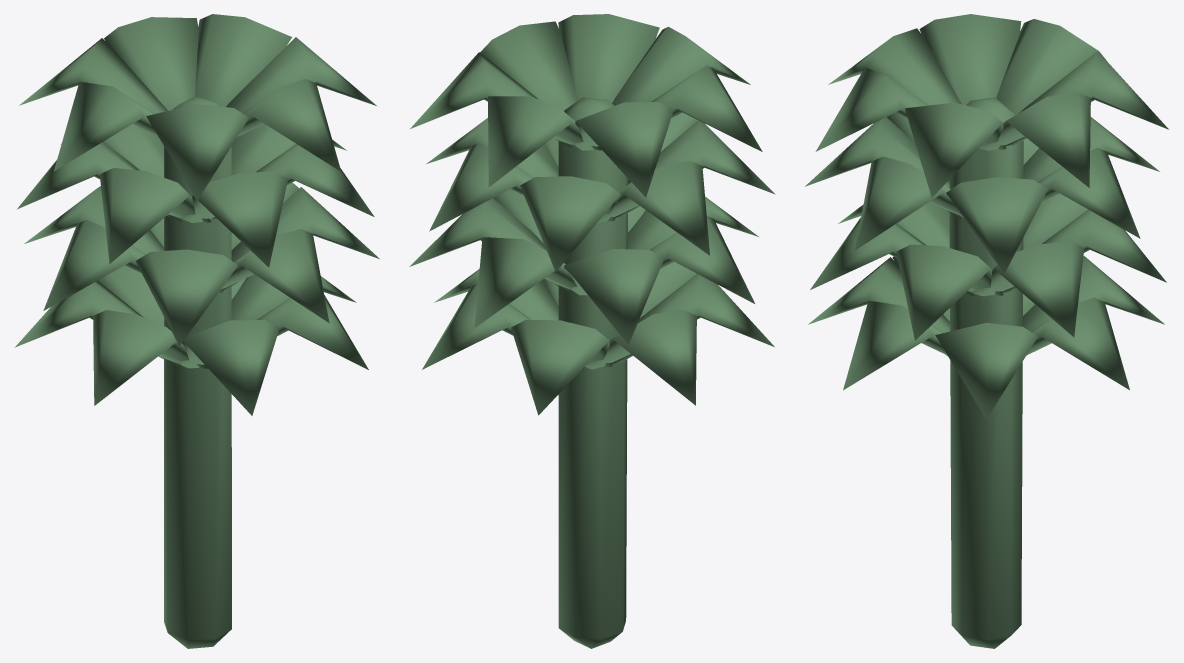
File: org_horsetail.glb
The picture shows the model from 3 angles, left to right: view 1: azimuth 30°, elevation 25°; view 2: azimuth 150°, elevation 25°; view 3: azimuth 270°, elevation 25°; orthographic projection.
Parts seen in each view (by area): view 1: Foliage, Trunk; view 2: Foliage, Trunk; view 3: Foliage, Trunk.
Part boxes in pixels (box(x1,y1,x2,y2)): Foliage: box(15, 14, 379, 415); Trunk: box(164, 96, 231, 648); Foliage: box(409, 14, 775, 415); Trunk: box(558, 97, 628, 648); Foliage: box(805, 14, 1168, 419); Trunk: box(949, 97, 1023, 648).
Size of the model in its own units: 0.6238 by 1.1 by 0.6207.
